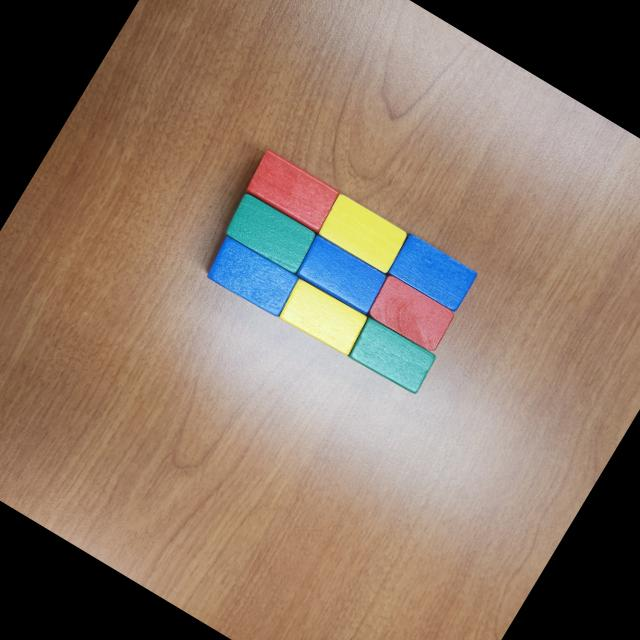blue: (200, 231, 304, 321), (293, 232, 392, 318), (382, 232, 480, 316)
green: (218, 188, 320, 278), (344, 315, 440, 398)
red: (242, 148, 343, 235), (366, 274, 456, 354)
yellow: (314, 190, 411, 276), (275, 276, 371, 358)
